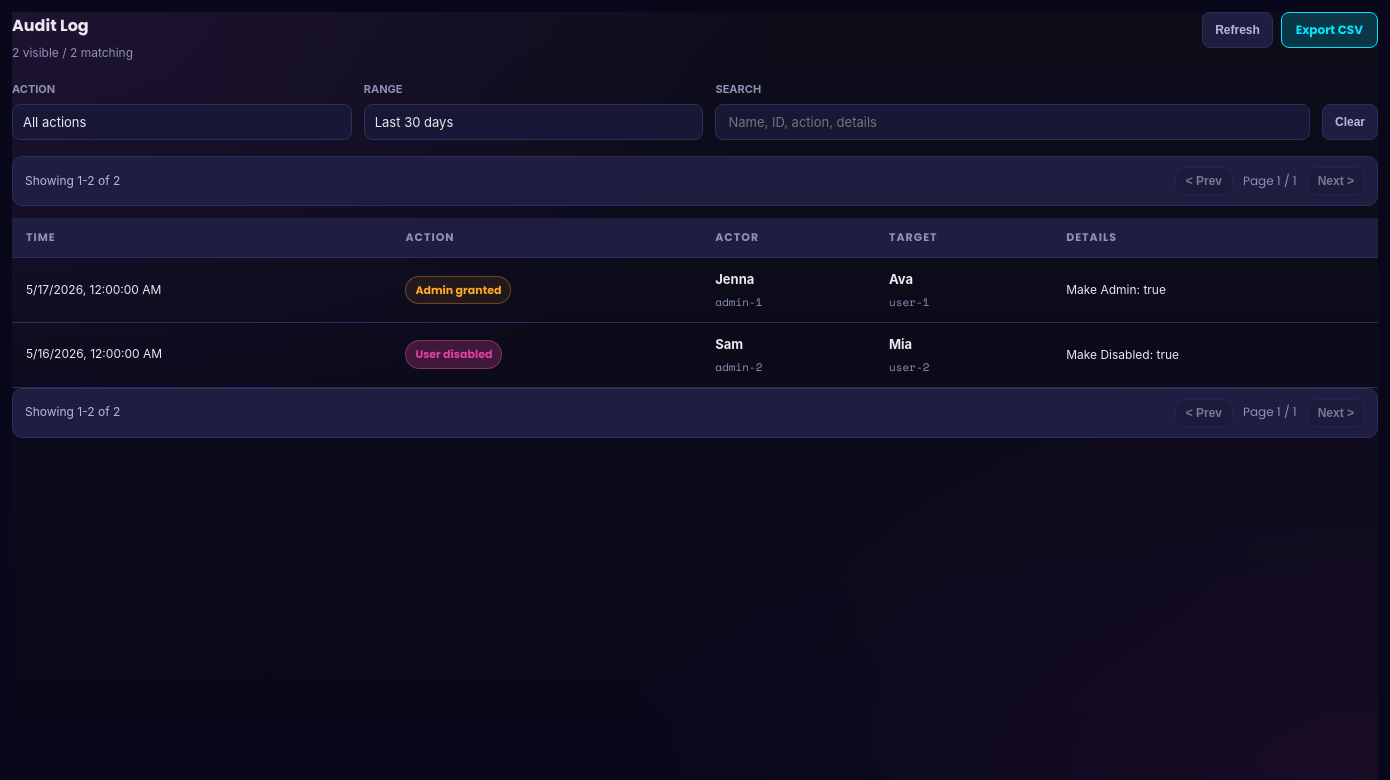
it: AdminAuditLogTab › filters visible rows by search term
The width and height of the screenshot is (1390, 780).
Type "mia" into the search field labelled "Search" at [1013, 122], box [715,104,1310,140]
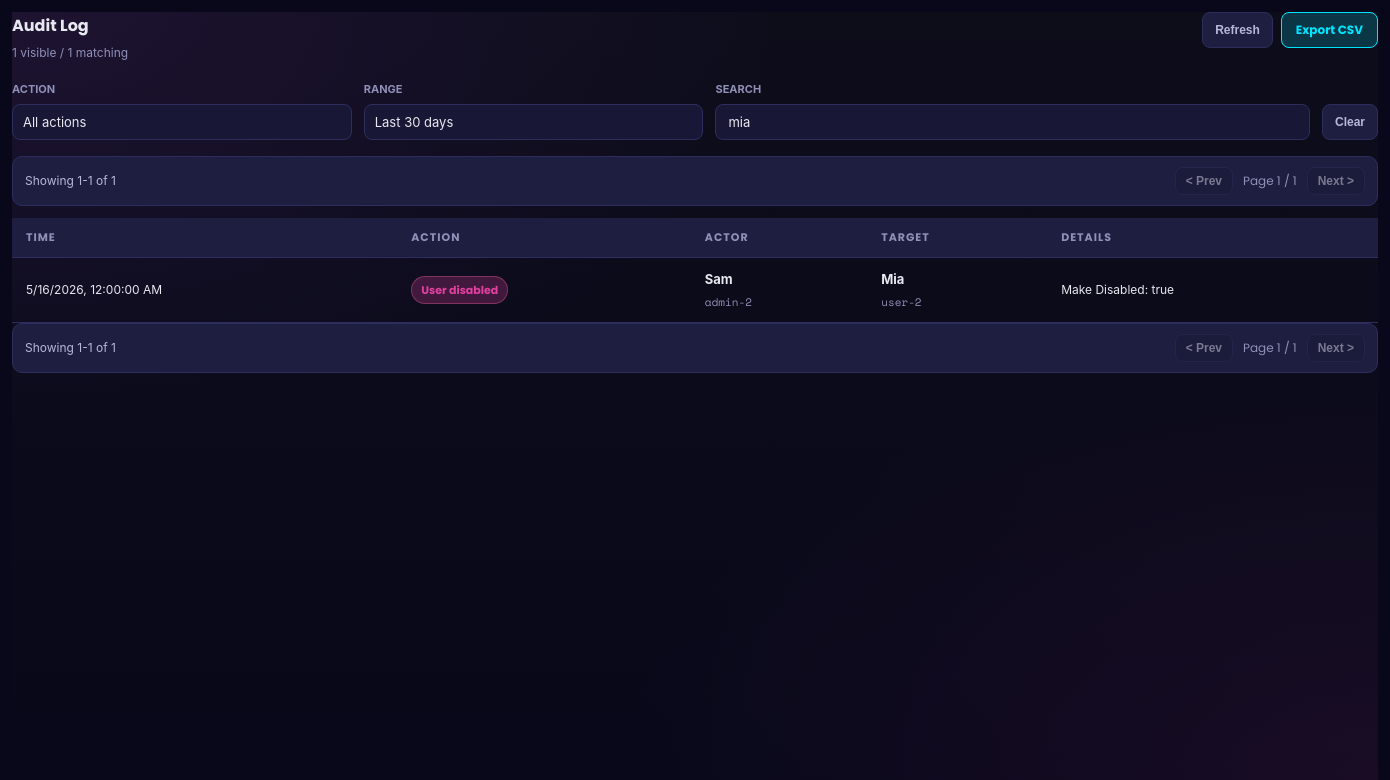
Expected: the text "User disabled" is shown, [411,276,508,304]
Result: the text "Admin granted" is gone
